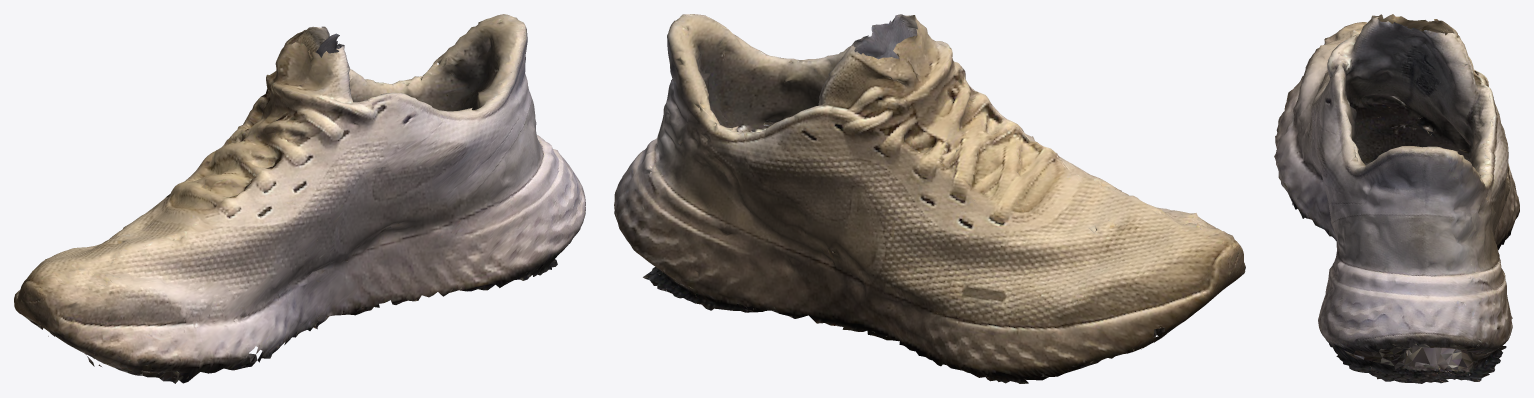
File: kenka.gltf
3 renders of one model, left to right at view 1: azimuth 30°, elevation 25°; view 2: azimuth 150°, elevation 25°; view 3: azimuth 270°, elevation 25°, orthographic. The views are drawn at different scales.
Parts seen in each view (by area): view 1: shoe; view 2: shoe; view 3: shoe.
Part boxes in pixels (x1,y1,x2,y2): shoe: (14,14,585,383); shoe: (614,14,1245,383); shoe: (1274,14,1519,383).
Bounding box in the file's own units: 4.97 × 2.28 × 1.89.
Materials: 1 (1 with a texture image).
